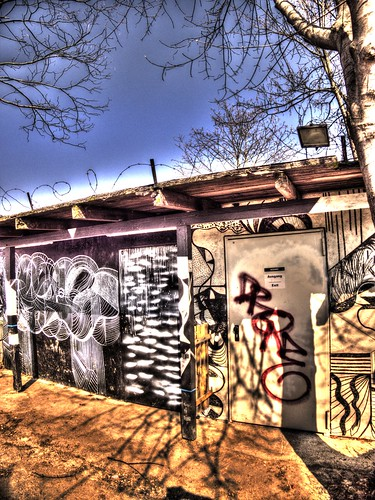door: (229, 234, 330, 447), (117, 239, 185, 406)
graffiti: (1, 242, 181, 394), (220, 275, 326, 414)
sky: (10, 1, 311, 196)
